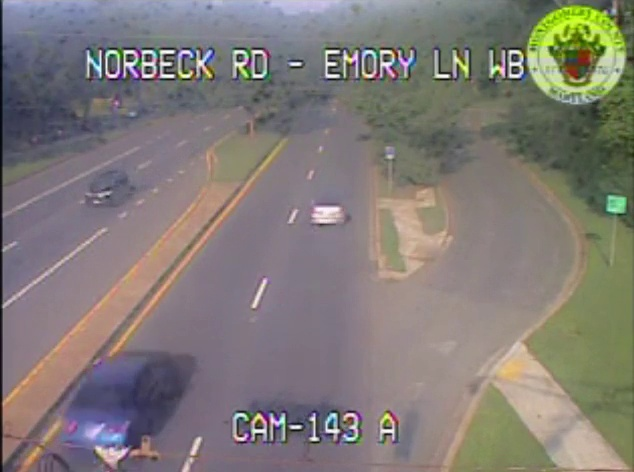car: (61, 355, 172, 440), (309, 202, 347, 226)
